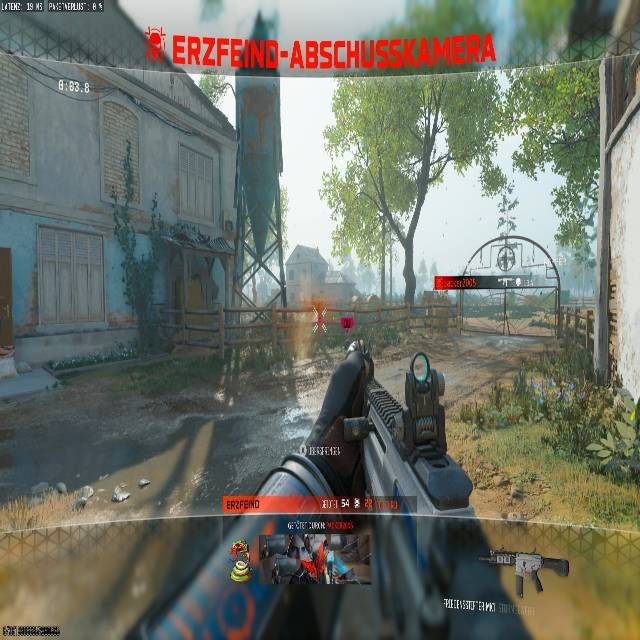player: (312, 301, 326, 333)
